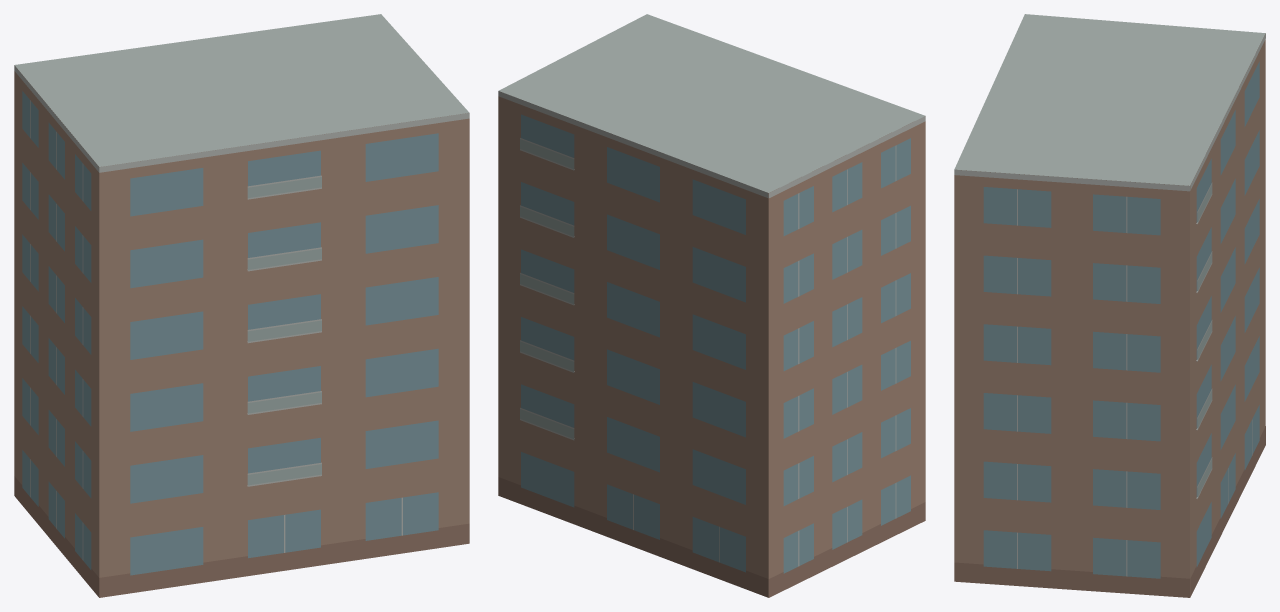
File: survey-upis-33009717.glb
3 renders of one model, left to right at view 1: azimuth 30°, elevation 25°; view 2: azimuth 150°, elevation 25°; view 3: azimuth 270°, elevation 25°, orthographic. The views are drawn at different scales.
Visible parts, largest first — view 1: survey-upis-33009717.tmp; view 2: survey-upis-33009717.tmp; view 3: survey-upis-33009717.tmp.
Part boxes in pixels (x1=…): survey-upis-33009717.tmp: x1=14, y1=14, x2=469, y2=597; survey-upis-33009717.tmp: x1=498, y1=14, x2=925, y2=597; survey-upis-33009717.tmp: x1=954, y1=14, x2=1265, y2=597.
Bounding box in the file's own units: 16.38 × 18.3 × 12.55.
